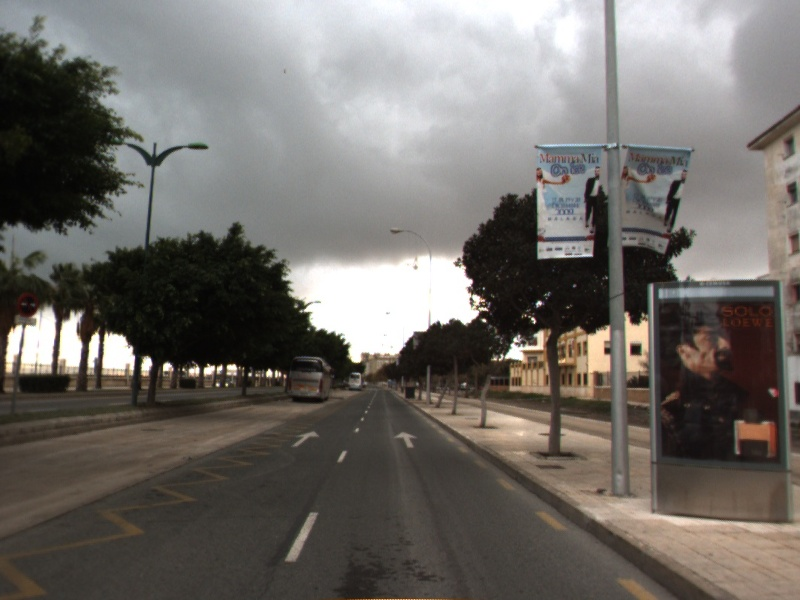STRAIGHT: (288, 429, 322, 449), (391, 429, 421, 450)
